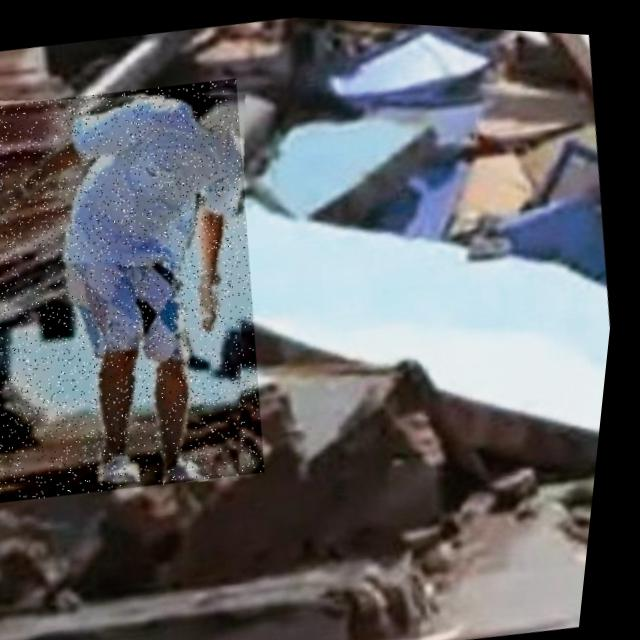Person in Rubble: (0, 63, 306, 515)
